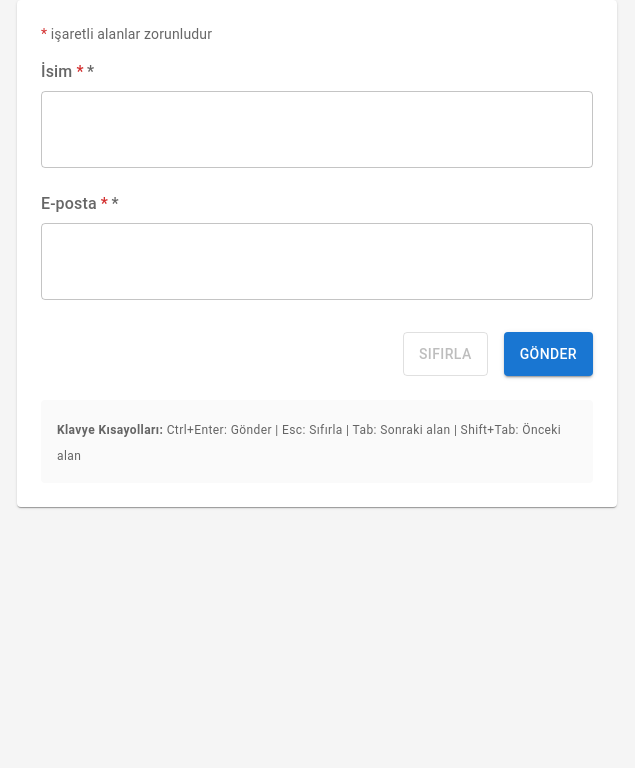
AccessibleForm - WCAG 2.1 AA Compliance › Error Summary › shows error count on form submission
Click the button "Gönder" at (548, 354), box [504,332,593,376]
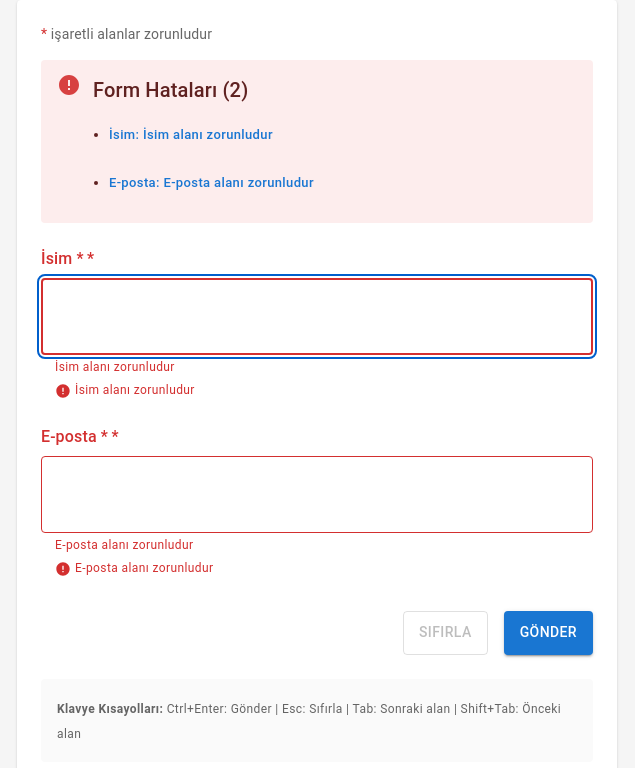
Expected: the heading "Form Hataları (2)" is shown, [93,78,248,102]
